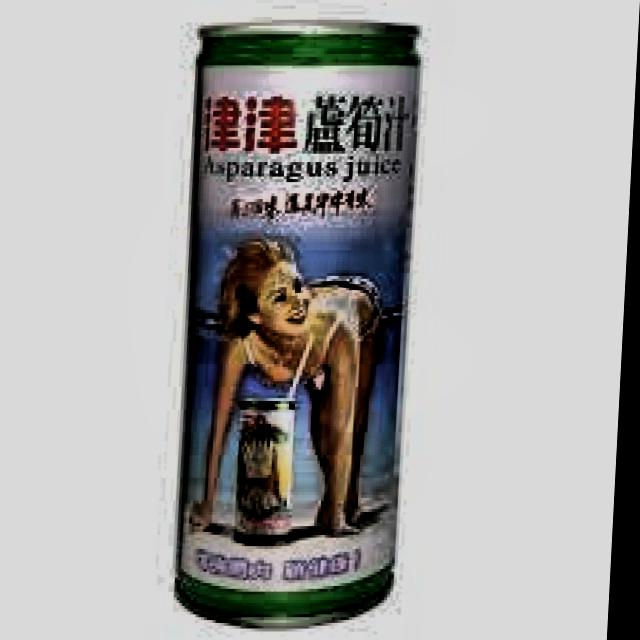can: (161, 8, 432, 640)
